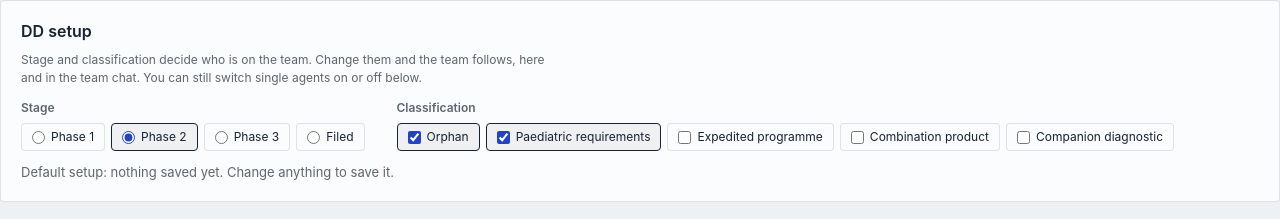
Test case: DdSetupPanel › says the team stays the same when the save changed nobody
The image size is (1280, 219).
Click the radio button labelled "Phase 1" at (38,137), box x1=32 y1=130 x2=45 y2=144
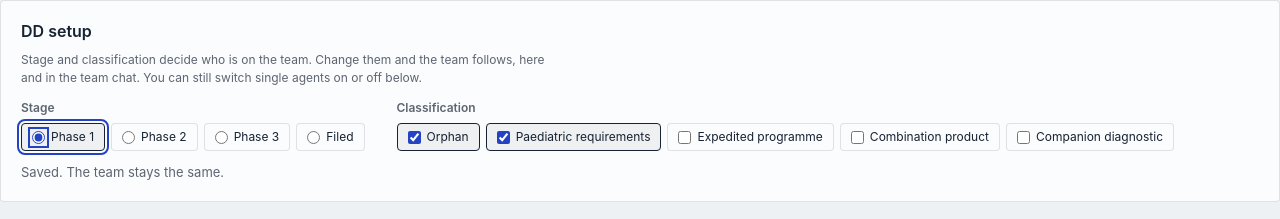
Now the text "Saved. The team stays the same." is shown, box x1=21 y1=164 x2=224 y2=180
